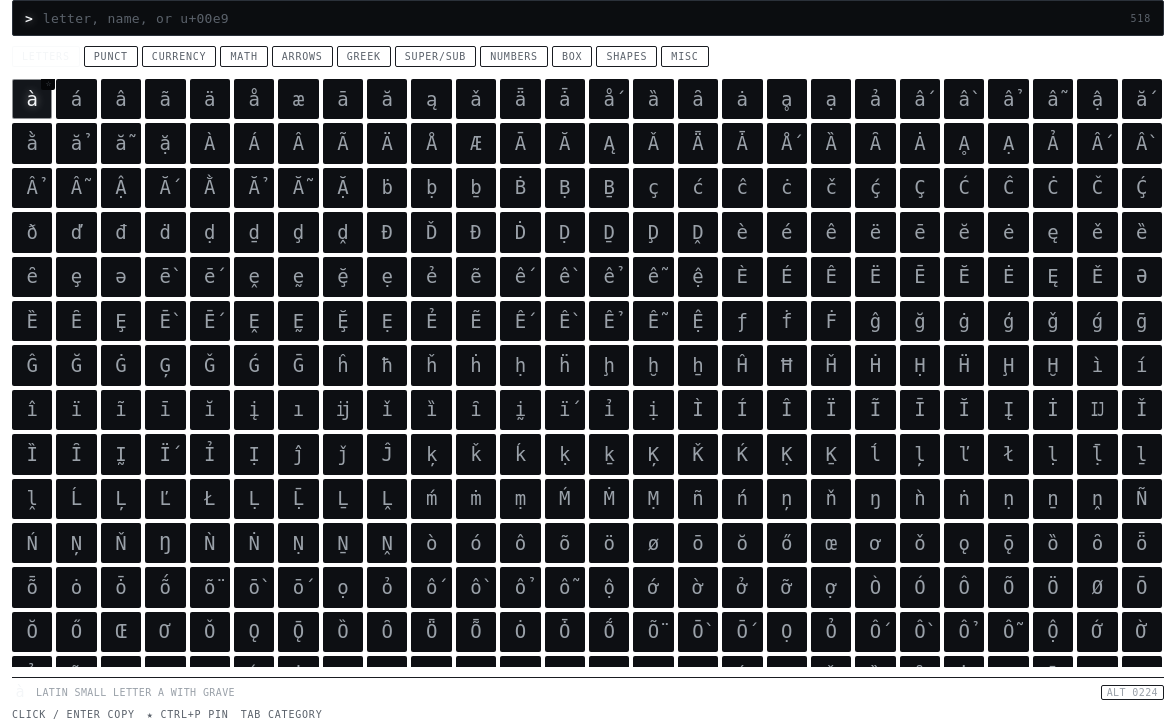
Scenario: GlyphsPanel › filters as you type and reports the count
The image size is (1176, 720).
In the field named "Search characters": (582, 18) [41, 10, 1122, 26], type "euro sign"
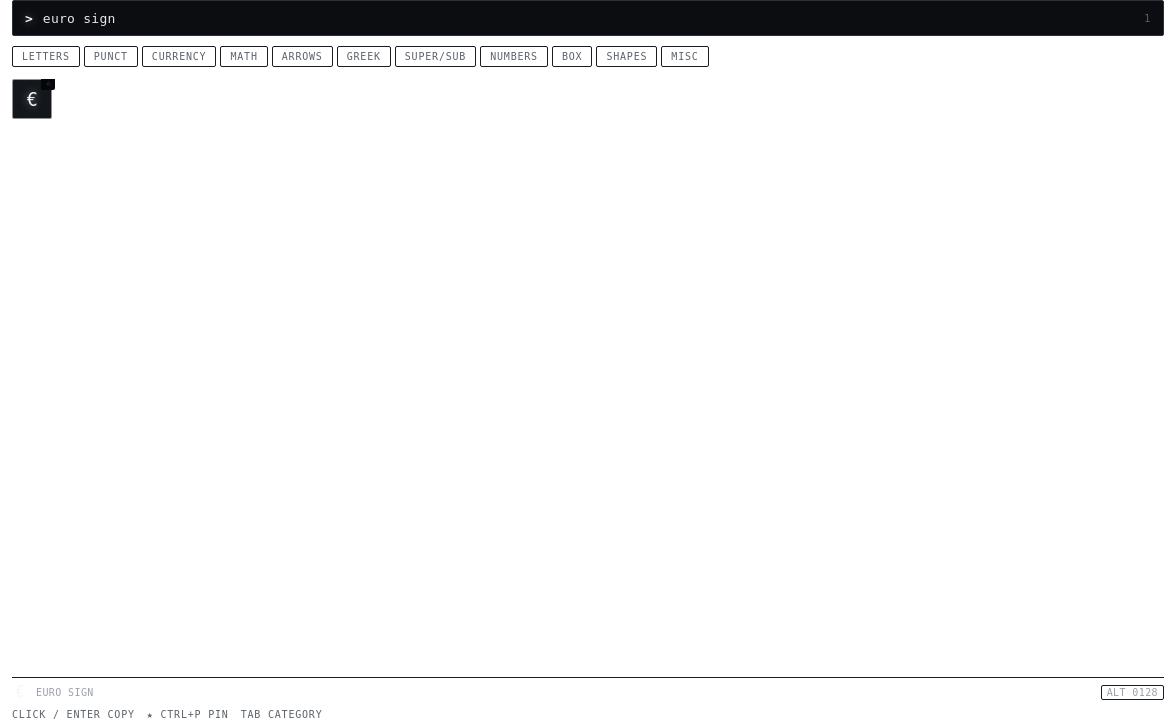
Expected: the button named "EURO SIGN" is shown, [12, 79, 52, 119]
